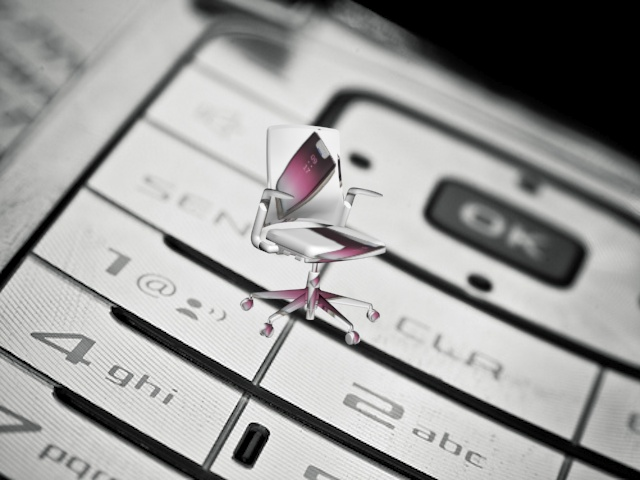desk_chair: (233, 121, 392, 352)
